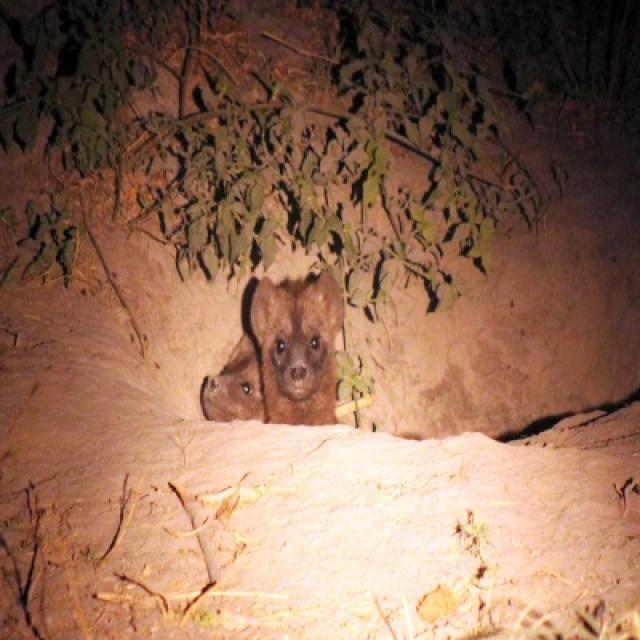hyena: (246, 269, 349, 417), (203, 335, 264, 420)
